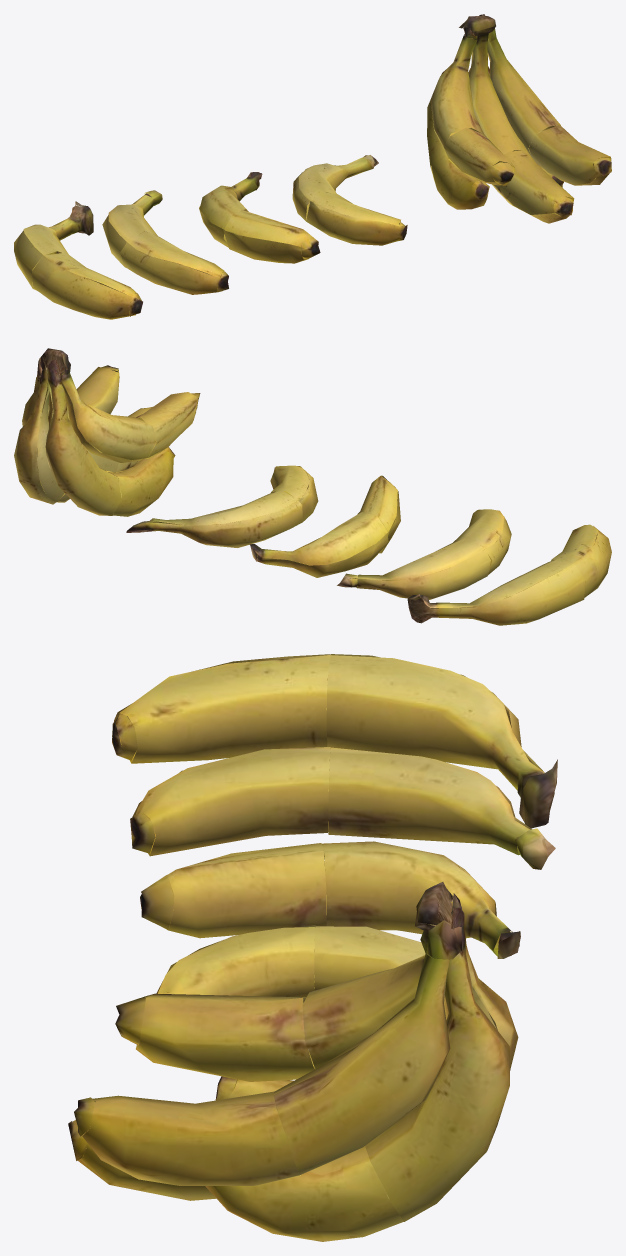
Rendered from isl_bananas.glb.
3 renders of one model, top to bottom at view 1: azimuth 30°, elevation 25°; view 2: azimuth 150°, elevation 25°; view 3: azimuth 270°, elevation 25°, orthographic. The views are drawn at different scales.
Visible parts, largest first — view 1: bananas_bunch; view 2: bananas_bunch; view 3: bananas_bunch.
Part boxes in pixels (x1,y1,x2,y2): bananas_bunch: [14, 14, 611, 319]; bananas_bunch: [14, 348, 611, 625]; bananas_bunch: [68, 654, 557, 1241].
Size of the model in its own units: 0.5998 by 0.1789 by 0.2427.
Materials: 1 (1 with a texture image).
